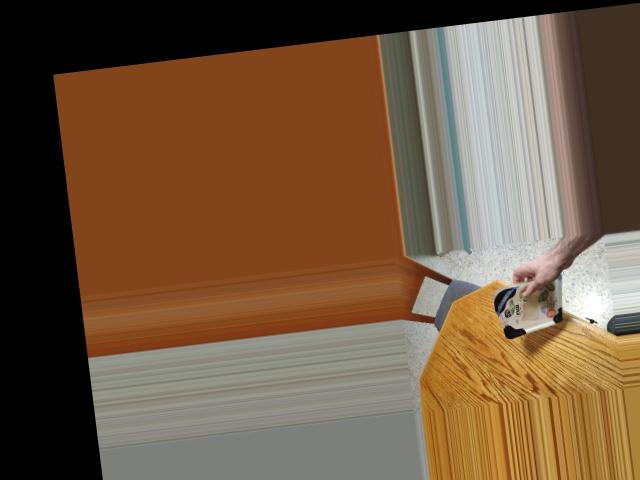cheese: (487, 275, 576, 335)
